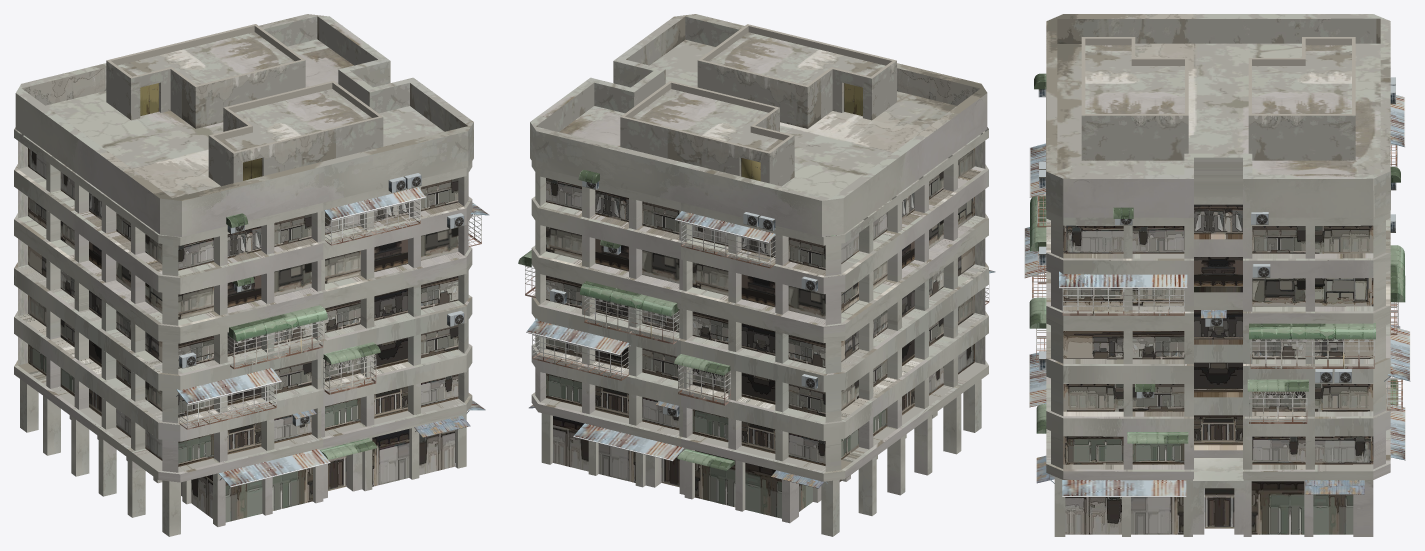
Rendered from asia_building.glb.
3 views of the same model, side by side, from view 1: azimuth 30°, elevation 25°; view 2: azimuth 150°, elevation 25°; view 3: azimuth 270°, elevation 25° (orthographic). The views are drawn at different scales.
Visible parts, largest first — view 1: apartment_02_fine_concrete_fine_0, apartment_02_fine_concrete_02_0, apartment_02_fine_build_01_0, polySurface3489_rooftop_01_0; view 2: apartment_02_fine_concrete_fine_0, apartment_02_fine_concrete_02_0, apartment_02_fine_build_01_0, polySurface3489_rooftop_01_0; view 3: apartment_02_fine_concrete_02_0, apartment_02_fine_concrete_fine_0, apartment_02_fine_build_01_0, polySurface3489_rooftop_01_0.
Part boxes in pixels (x1=…): apartment_02_fine_concrete_fine_0: x1=14, y1=61, x2=473, y2=536; apartment_02_fine_concrete_02_0: x1=14, y1=14, x2=473, y2=474; apartment_02_fine_build_01_0: x1=28, y1=148, x2=458, y2=522; polySurface3489_rooftop_01_0: x1=140, y1=83, x2=489, y2=487; apartment_02_fine_concrete_fine_0: x1=530, y1=61, x2=988, y2=536; apartment_02_fine_concrete_02_0: x1=530, y1=14, x2=988, y2=473; apartment_02_fine_build_01_0: x1=546, y1=148, x2=974, y2=518; polySurface3489_rooftop_01_0: x1=518, y1=83, x2=995, y2=488; apartment_02_fine_concrete_02_0: x1=1046, y1=14, x2=1390, y2=471; apartment_02_fine_concrete_fine_0: x1=1046, y1=89, x2=1390, y2=536; apartment_02_fine_build_01_0: x1=1063, y1=204, x2=1373, y2=534; polySurface3489_rooftop_01_0: x1=1024, y1=73, x2=1410, y2=496.
Bounding box in the file's own units: 169 × 175 × 160.
Materials: 5 (5 with a texture image).
